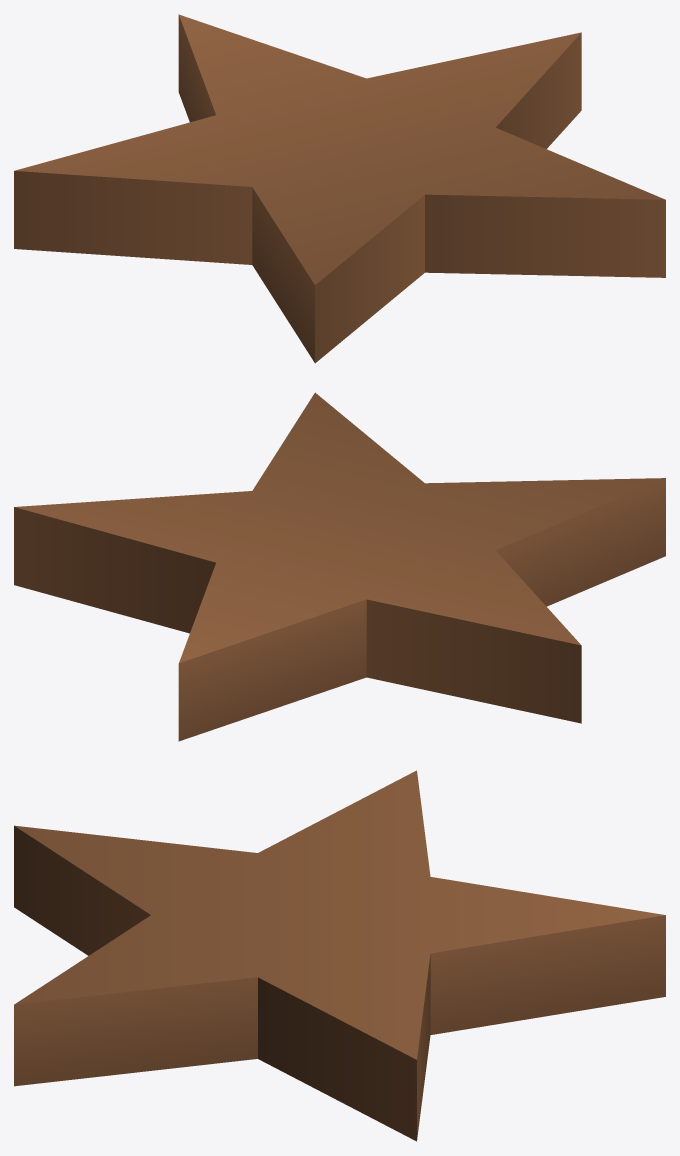
The model's file is wooden_star.fbx.
3 views of the same model, one above another, from view 1: azimuth 30°, elevation 25°; view 2: azimuth 150°, elevation 25°; view 3: azimuth 270°, elevation 25° (orthographic). The views are drawn at different scales.
Visible parts, largest first — view 1: wooden_star; view 2: wooden_star; view 3: wooden_star.
Boxes of the visible parts, box(x1,y1,x2,y2) form: wooden_star: box(14, 14, 665, 363); wooden_star: box(14, 392, 665, 741); wooden_star: box(14, 770, 665, 1141).
Bounding box in the file's own units: 110 × 14.46 × 105.
